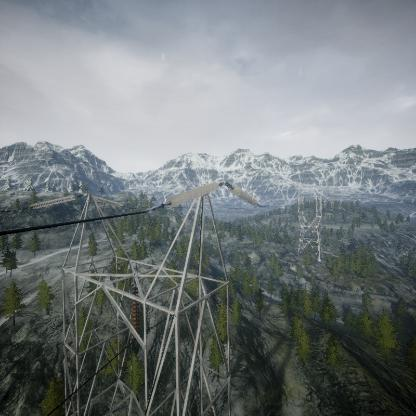insulator: (161, 180, 223, 210), (224, 180, 266, 211), (29, 194, 78, 210), (132, 286, 140, 342), (92, 195, 124, 208)
tower: (294, 184, 324, 265)
